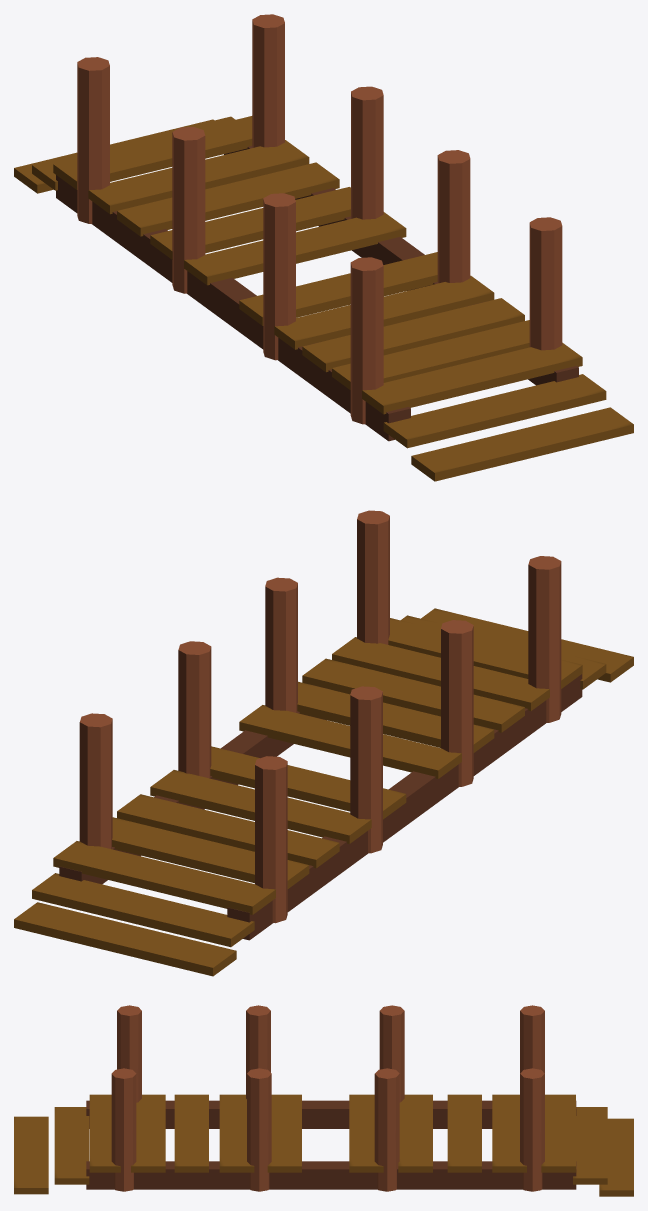
The model's file is pier.glb.
3 views of the same model, one above another, from view 1: azimuth 30°, elevation 25°; view 2: azimuth 150°, elevation 25°; view 3: azimuth 270°, elevation 25° (orthographic). The views are drawn at different scales.
Visible parts, largest first — view 1: Pier_0; view 2: Pier_0; view 3: Pier_0.
Boxes of the visible parts, left/top/right/bottom form: Pier_0: left=14, top=14, right=633, bottom=481; Pier_0: left=14, top=510, right=633, bottom=976; Pier_0: left=14, top=1005, right=633, bottom=1196.
Bounding box in the file's own units: 5.94 × 4.45 × 21.15.
Materials: 1 (1 with a texture image).
